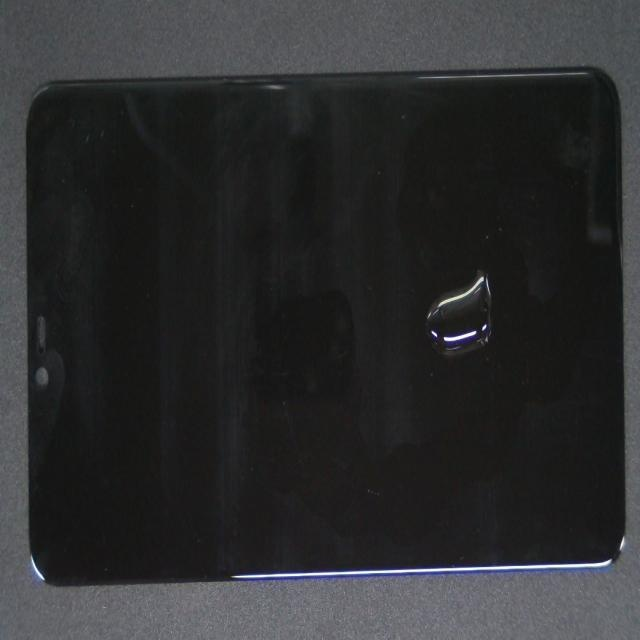oil: (219, 184, 640, 520)
